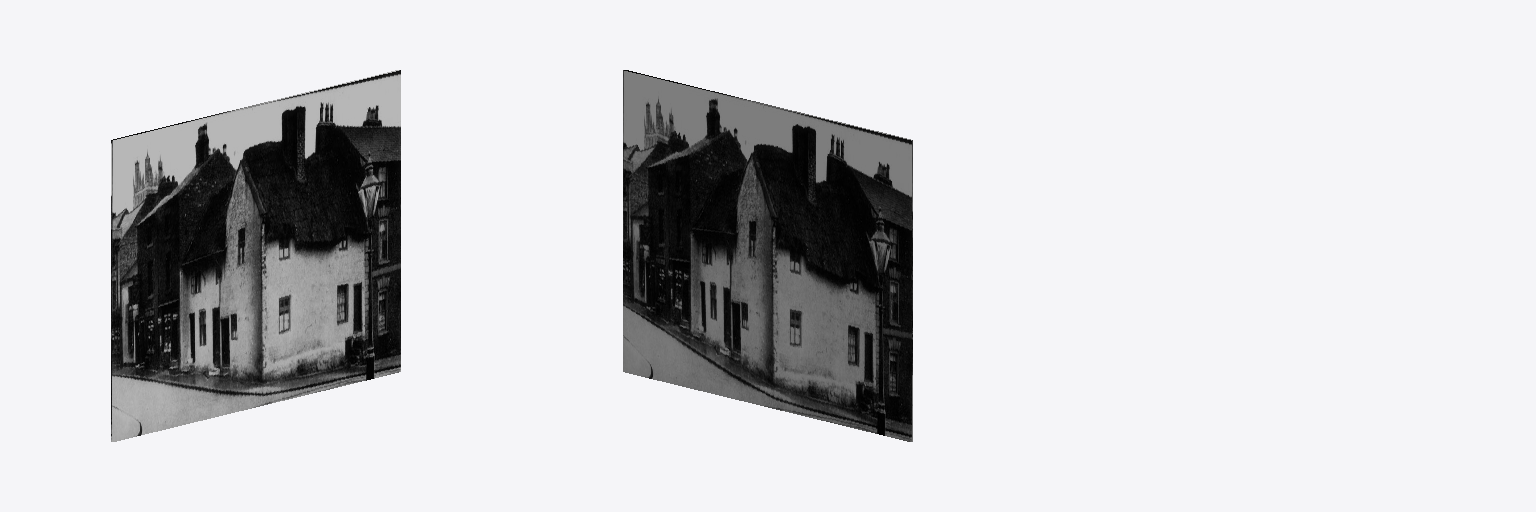
3 views of the same model, side by side, from view 1: azimuth 30°, elevation 25°; view 2: azimuth 150°, elevation 25°; view 3: azimuth 270°, elevation 25° (orthographic).
Visible parts, largest first — view 1: pPlane1 polySurface2 polySurface1, group pasted__pPlane1 polySurface2 polySurface1; view 2: group pasted__pPlane1 polySurface2 polySurface1, pPlane1 polySurface2 polySurface1; view 3: none.
Boxes of the visible parts, x1,y1,x2,y2 form: pPlane1 polySurface2 polySurface1: [112, 70, 400, 441]; group pasted__pPlane1 polySurface2 polySurface1: [111, 70, 399, 441]; group pasted__pPlane1 polySurface2 polySurface1: [623, 70, 911, 441]; pPlane1 polySurface2 polySurface1: [624, 70, 912, 441].
Bounding box in the file's own units: 1.25 × 1.25 × 0.0083.
Materials: 2 (1 with a texture image).